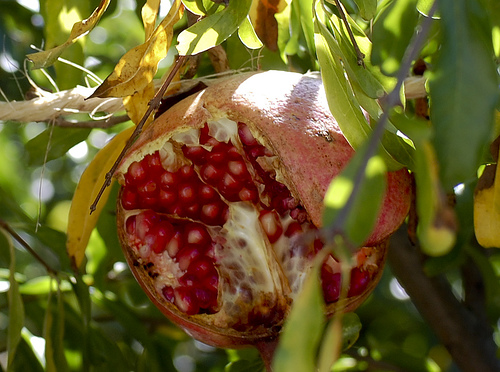pomogranate: (114, 70, 411, 350)
